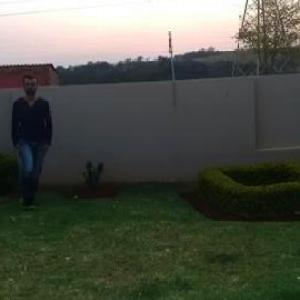follow: (11, 76, 65, 196)
